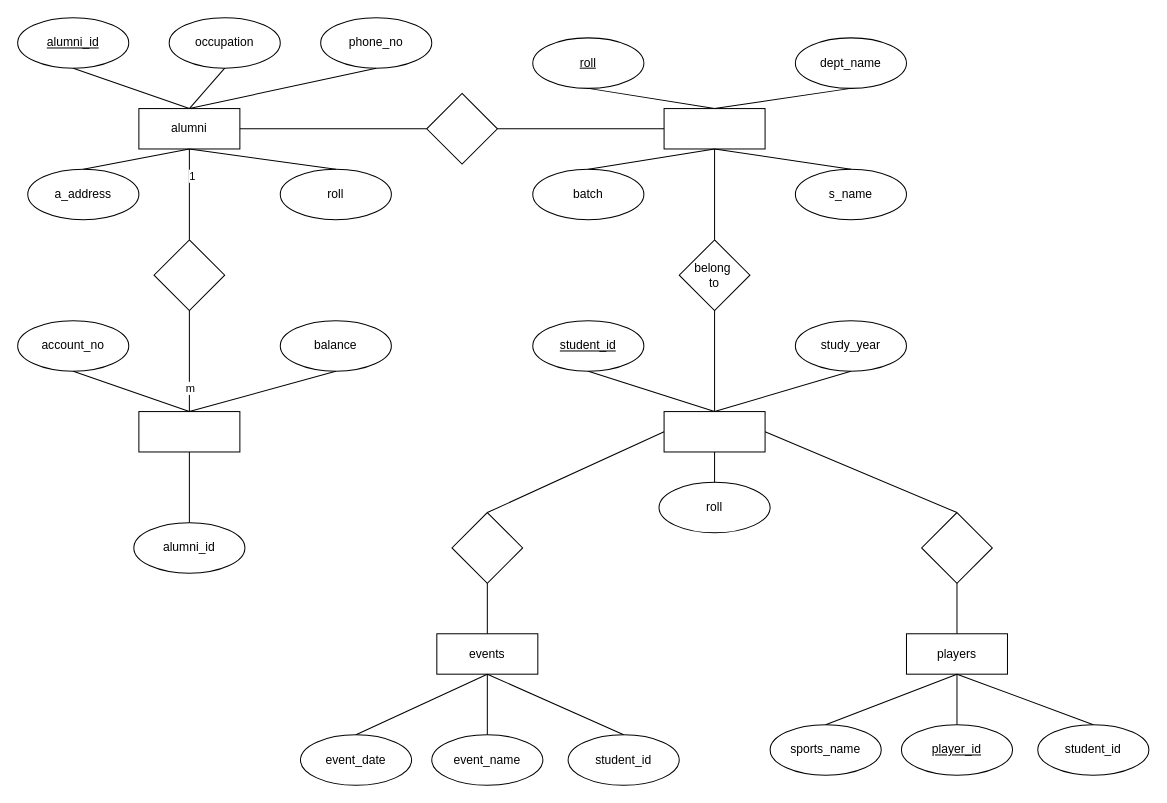
The diagram is 1167 pixels wide and 803 high, and some of its shapes have lost their labels. Each missing label, with the centre of its shape:
controls: point 189,275
current_students: point 714,431
funds: point 189,431
IS: point 956,547
Manages: point 487,547
member of: point 461,128
students: point 714,128
